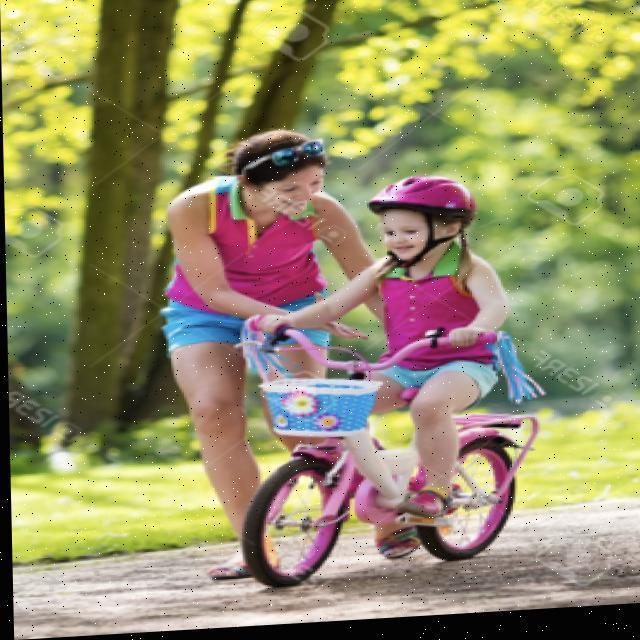Helmet: (353, 169, 499, 277)
